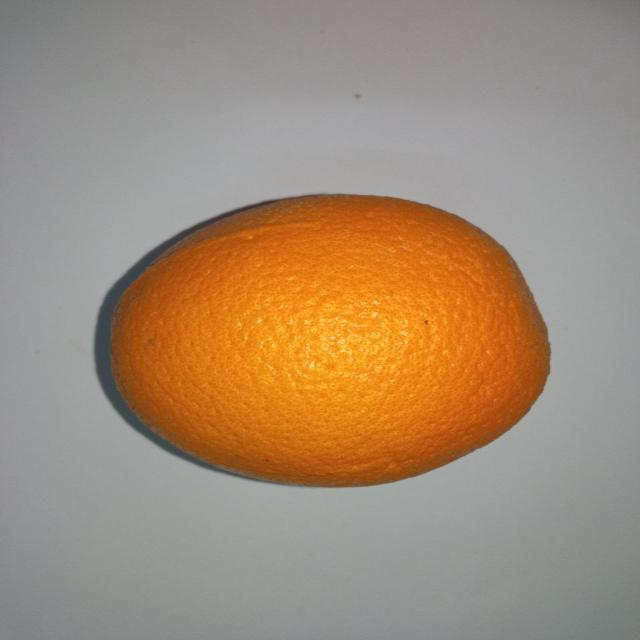fresh_orange: (111, 193, 552, 487)
